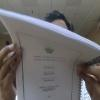notebook: (0, 5, 99, 99)
